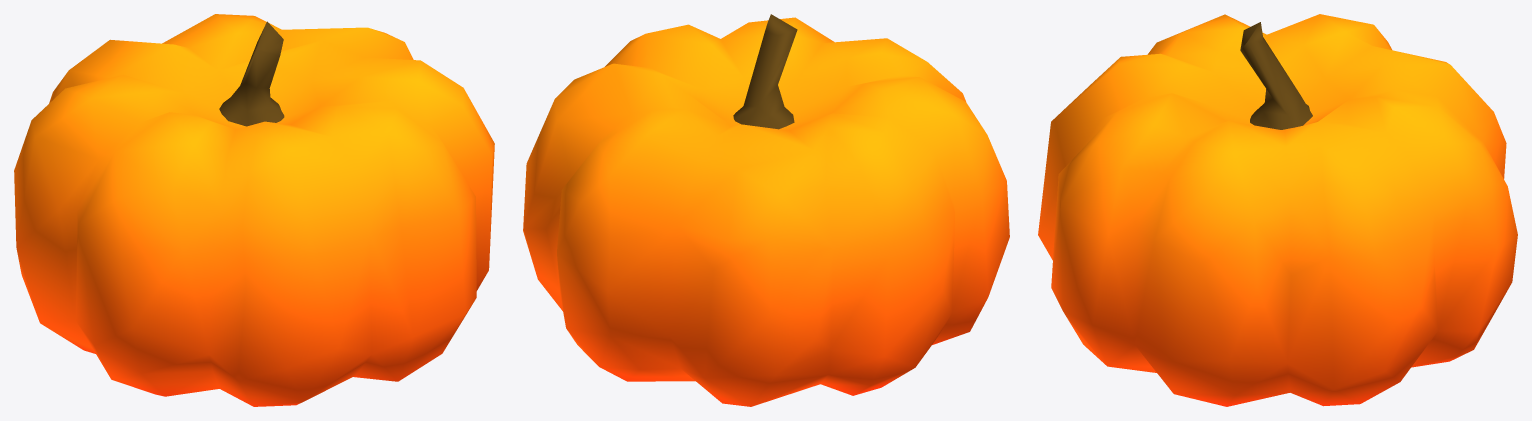
The picture shows the model from 3 angles, left to right: view 1: azimuth 30°, elevation 25°; view 2: azimuth 150°, elevation 25°; view 3: azimuth 270°, elevation 25°; orthographic projection.
Visible parts, largest first — view 1: PlainPumpkin; view 2: PlainPumpkin; view 3: PlainPumpkin.
Boxes of the visible parts, x1,y1,x2,y2 form: PlainPumpkin: (14,14,494,406); PlainPumpkin: (523,14,1009,406); PlainPumpkin: (1038,14,1517,406).
Size of what is drawn, in the model's own units: 0.8725 by 0.6603 by 0.8831.
Materials: 1 (1 with a texture image).
